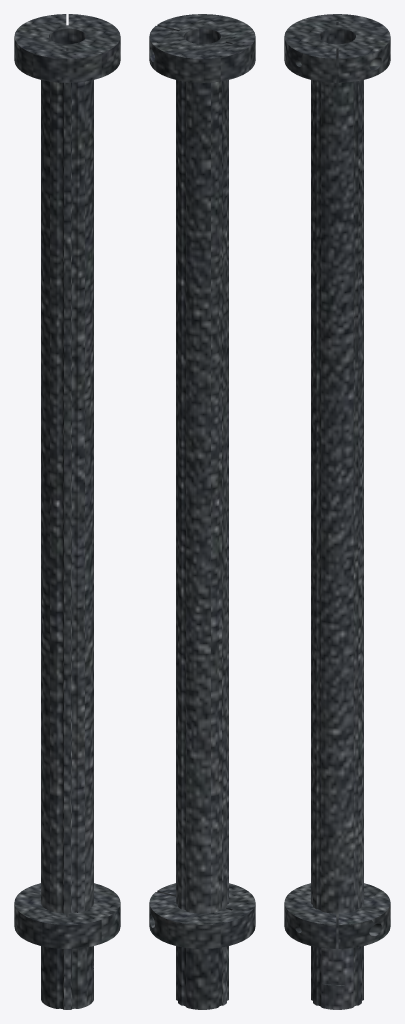
The picture shows the model from 3 angles, left to right: view 1: azimuth 90°, elevation 25°; view 2: azimuth 150°, elevation 25°; view 3: azimuth 270°, elevation 25°; orthographic projection.
Parts seen in each view (by area): view 1: IRB_910SC_IRC5C_shaft_450_rev0; view 2: IRB_910SC_IRC5C_shaft_450_rev0; view 3: IRB_910SC_IRC5C_shaft_450_rev0.
Part boxes in pixels (box(x1,y1,x2,y2)): IRB_910SC_IRC5C_shaft_450_rev0: box(14, 14, 120, 1009); IRB_910SC_IRC5C_shaft_450_rev0: box(149, 14, 255, 1009); IRB_910SC_IRC5C_shaft_450_rev0: box(284, 14, 390, 1009).
Bounding box in the file's own units: 20 × 200 × 20.
